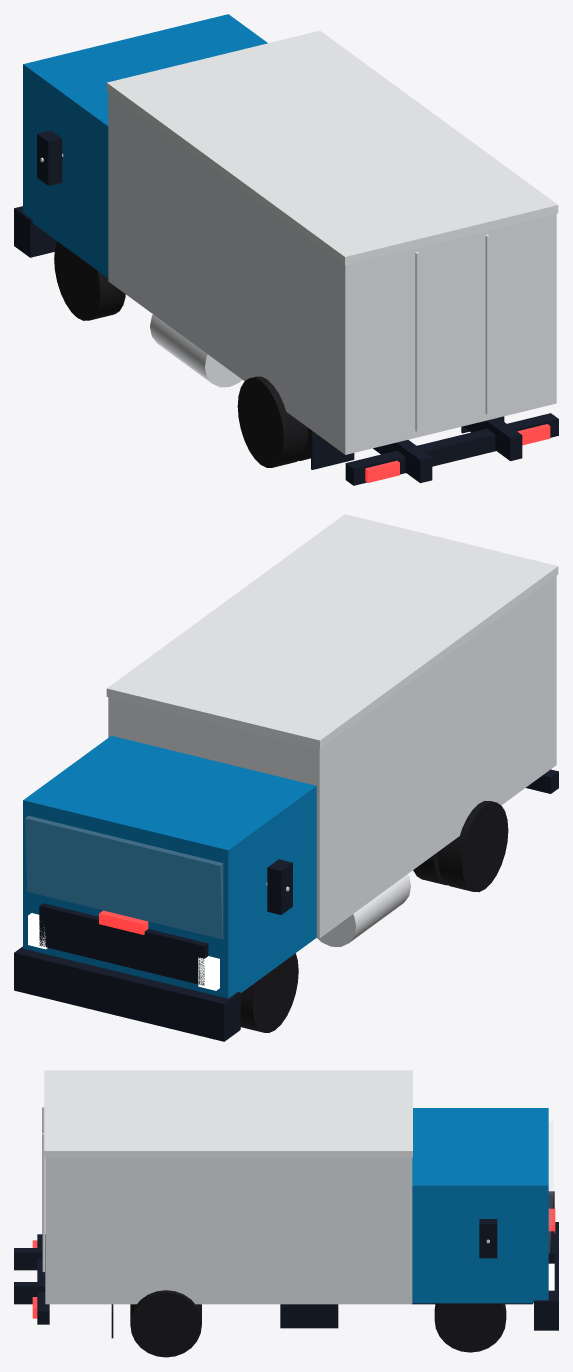
Rendered from isuzu-npr.glb.
3 renders of one model, top to bottom at view 1: azimuth 30°, elevation 25°; view 2: azimuth 150°, elevation 25°; view 3: azimuth 270°, elevation 25°, orthographic. The views are drawn at different scales.
Parts seen in each view (by area): view 1: cargo_box, object 17, body, car-wheel.Bk.L, bumper_back, car-wheel.Ft.L, object 3, bumper_front, object 12, object 1, object 2, object 23 (+2 smaller); view 2: object 17, cargo_box, body, glass, bumper_front, object 7, car-wheel.Bk.L, car-wheel.Ft.L, object 3, object 12, object 8, headlight.L; view 3: cargo_box, object 17, body, car-wheel.Bk.R, car-wheel.Ft.R, object 4, bumper_front, object 14, object 2, bumper_back, object 1, glass (+1 smaller).
Boxes of the visible parts, bbox=[...] form: cargo_box: bbox=[108, 92, 556, 454]; object 17: bbox=[106, 30, 558, 265]; body: bbox=[23, 14, 267, 277]; car-wheel.Bk.L: bbox=[237, 376, 316, 467]; bumper_back: bbox=[345, 413, 558, 485]; car-wheel.Ft.L: bbox=[54, 241, 125, 320]; object 3: bbox=[150, 314, 242, 387]; bumper_front: bbox=[14, 206, 56, 257]; object 12: bbox=[37, 130, 62, 185]; object 1: bbox=[373, 440, 432, 483]; object 2: bbox=[463, 417, 522, 461]; object 23: bbox=[311, 434, 354, 469]; object 17: bbox=[106, 514, 558, 748]; cargo_box: bbox=[108, 576, 556, 938]; body: bbox=[23, 735, 316, 998]; glass: bbox=[25, 816, 222, 938]; bumper_front: bbox=[14, 946, 240, 1041]; object 7: bbox=[39, 903, 208, 985]; car-wheel.Bk.L: bbox=[413, 801, 508, 892]; car-wheel.Ft.L: bbox=[240, 953, 298, 1032]; object 3: bbox=[317, 874, 410, 946]; object 12: bbox=[267, 859, 292, 914]; object 8: bbox=[99, 910, 148, 934]; headlight.L: bbox=[198, 956, 219, 990]; cargo_box: bbox=[45, 1157, 412, 1304]; object 17: bbox=[44, 1070, 412, 1157]; body: bbox=[412, 1108, 548, 1303]; car-wheel.Bk.R: bbox=[130, 1290, 201, 1357]; car-wheel.Ft.R: bbox=[434, 1303, 506, 1352]; object 4: bbox=[280, 1304, 338, 1328]; bumper_front: bbox=[534, 1222, 558, 1330]; object 14: bbox=[479, 1219, 497, 1258]; object 2: bbox=[14, 1282, 532, 1304]; bumper_back: bbox=[37, 1234, 49, 1324]; object 1: bbox=[14, 1248, 45, 1270]; glass: bbox=[549, 1121, 553, 1252].
Bounding box in the file's own units: 2.47 × 2.52 × 6.09.
